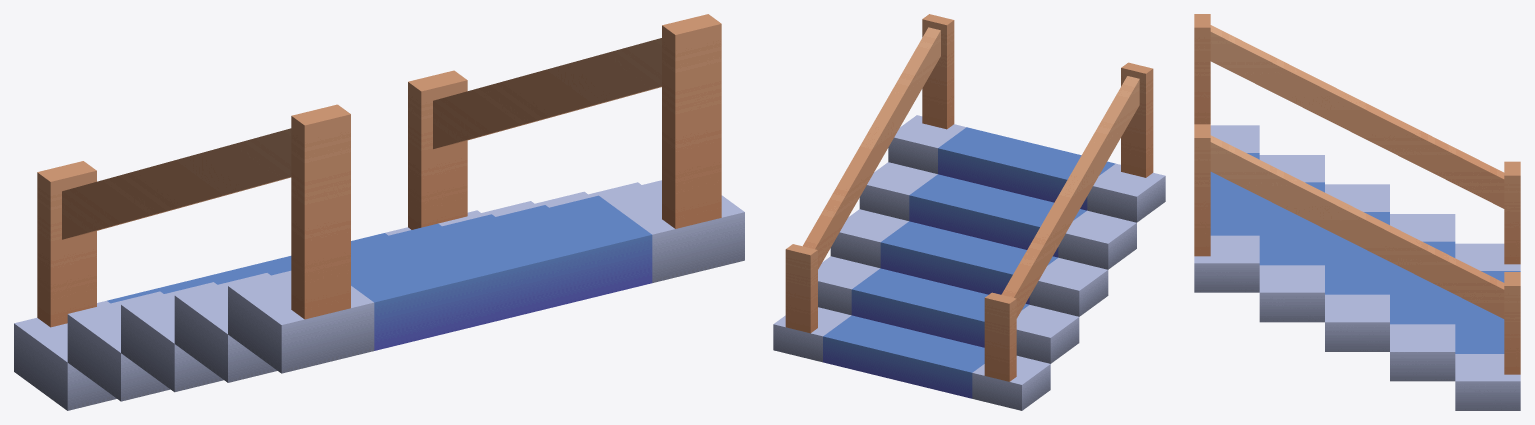
File: queue-steps.glb
3 renders of one model, left to right at view 1: azimuth 30°, elevation 25°; view 2: azimuth 150°, elevation 25°; view 3: azimuth 270°, elevation 25°, orthographic. The views are drawn at different scales.
Parts seen in each view (by area): view 1: queue-steps; view 2: queue-steps; view 3: queue-steps.
Part boxes in pixels (box(x1,y1,x2,y2)): queue-steps: box(14, 14, 744, 410); queue-steps: box(773, 14, 1165, 410); queue-steps: box(1194, 14, 1520, 410).
Bounding box in the file's own units: 3 × 2.7 × 3.
1 material, 1 textured.
